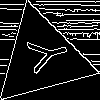Y: (17, 32, 71, 77)
